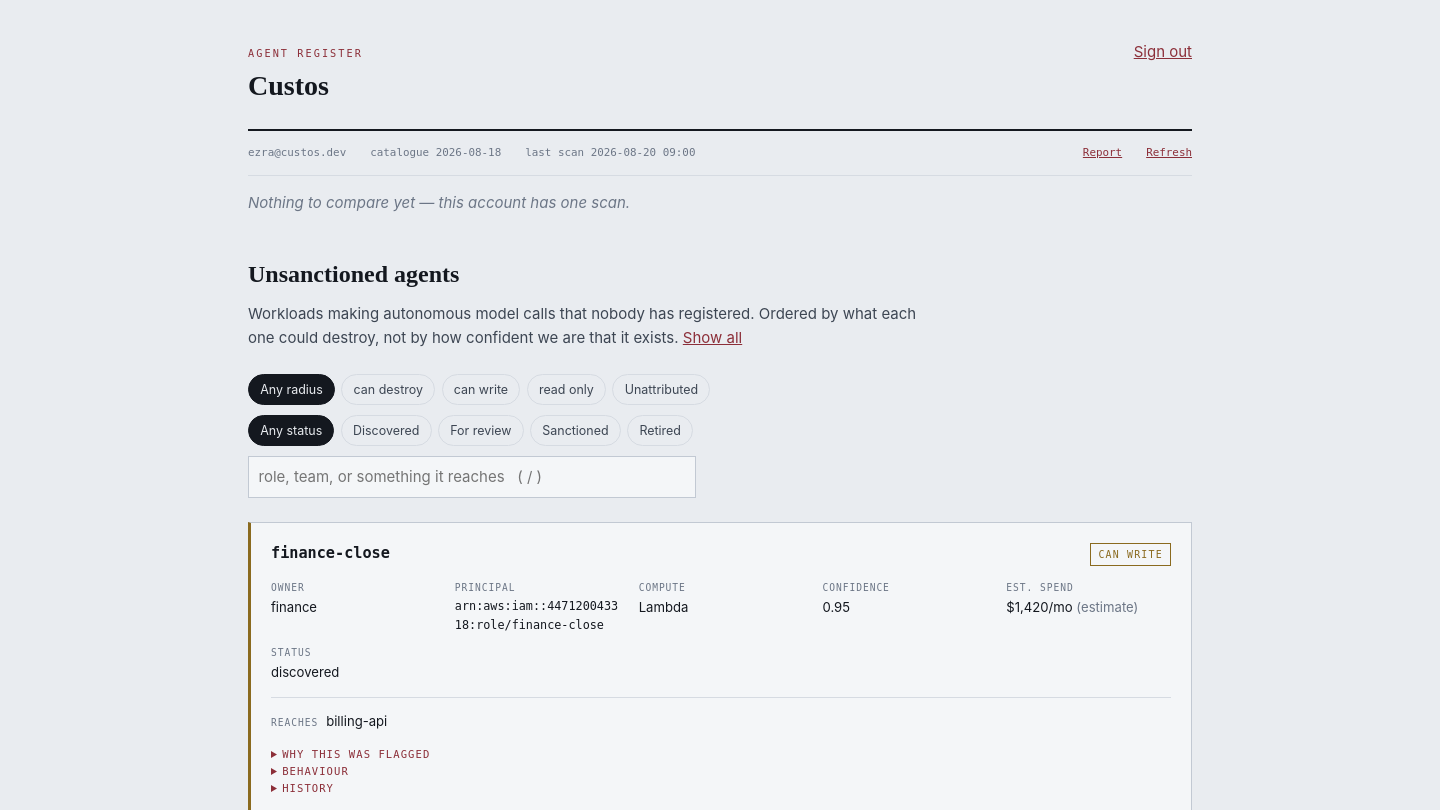
Scenario: granting › shows the server's refusal rather than closing silently
The width and height of the screenshot is (1440, 810).
Expected: the heading "finance-close" is shown, left=271, top=541, right=390, bottom=565
Click the heading "Why this was flagged" at (356, 754), box left=282, top=748, right=430, bottom=760
(page scrolled)
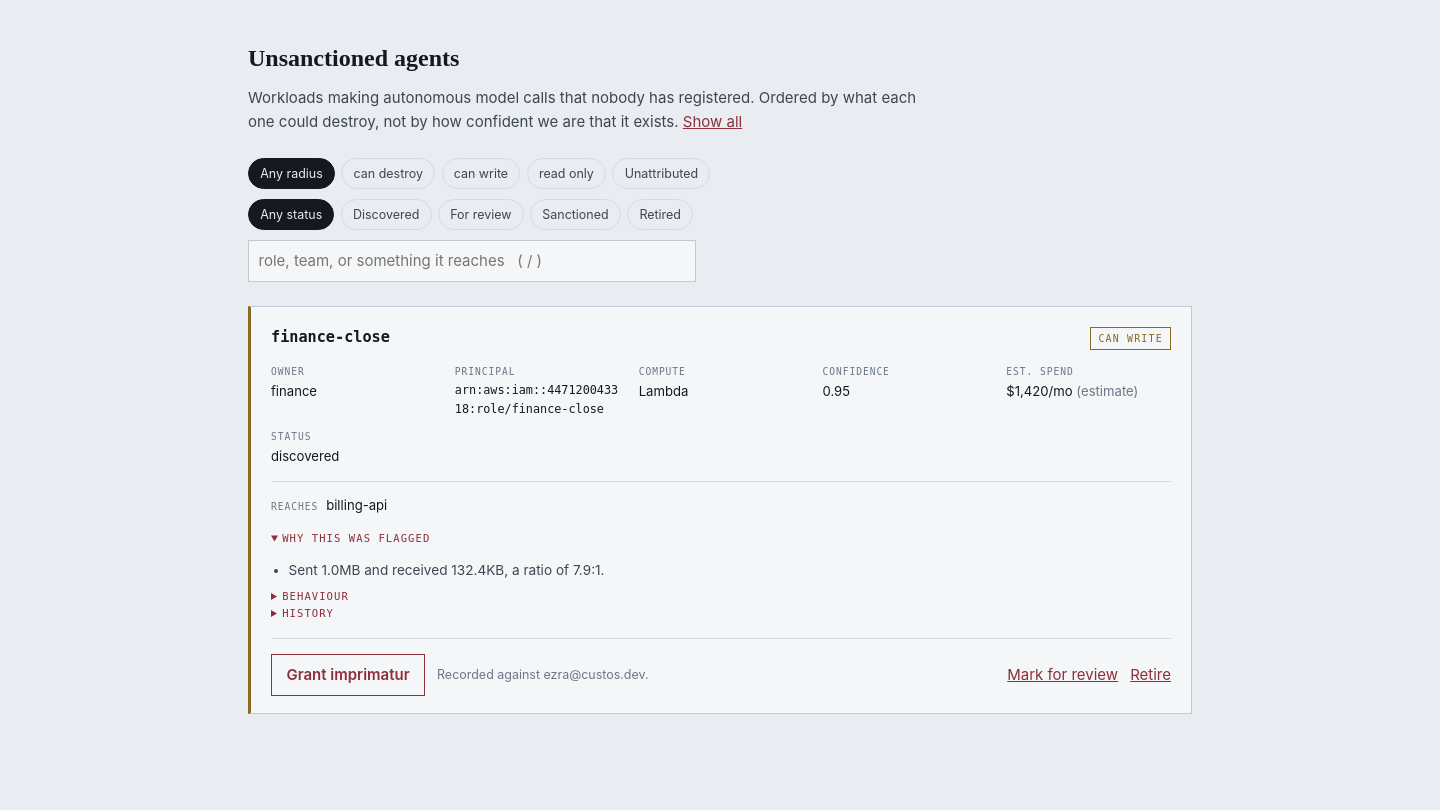
Click the button "Grant imprimatur" at (348, 675), box left=271, top=654, right=425, bottom=696
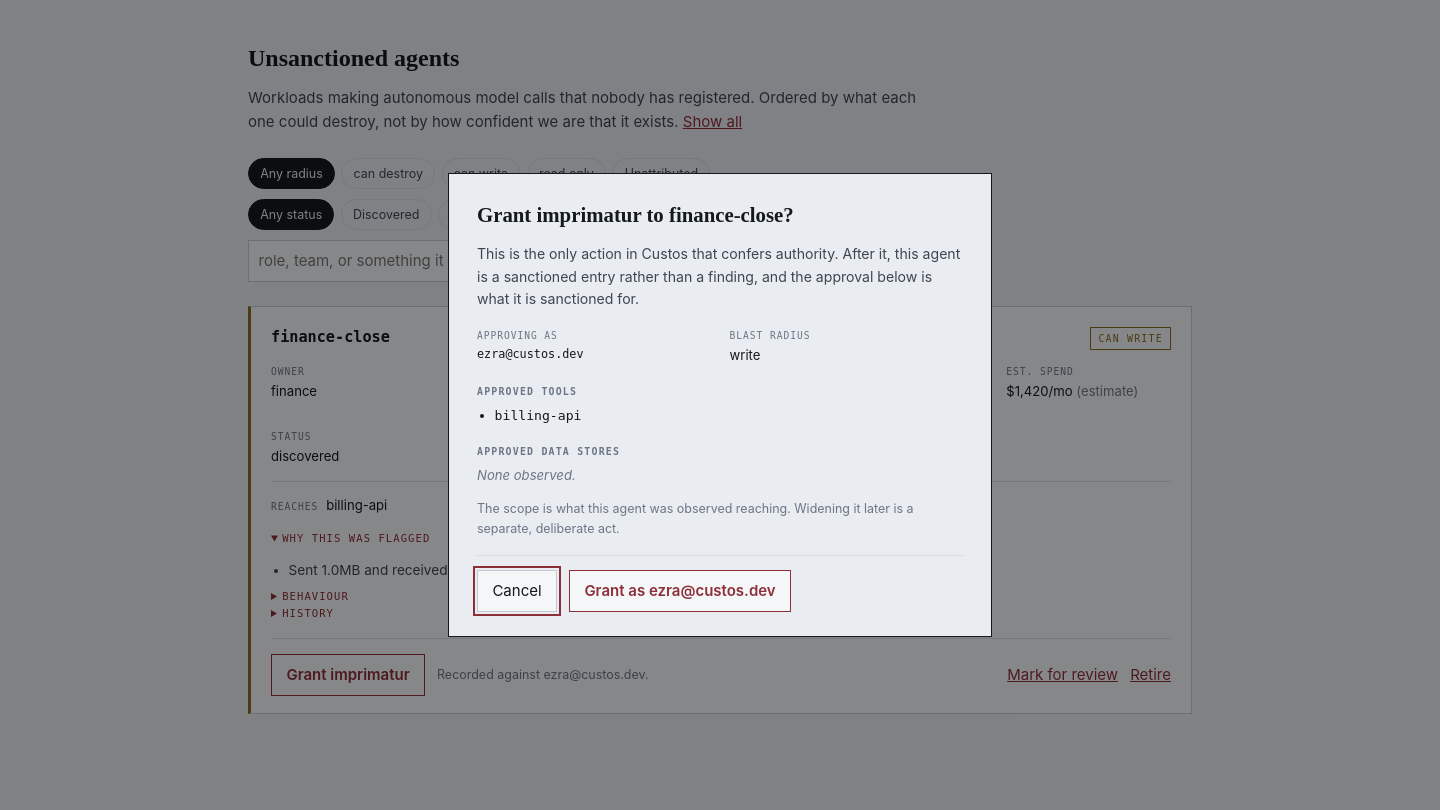
Click the button "Grant as ezra@custos.dev" at (680, 591), box left=569, top=570, right=791, bottom=612
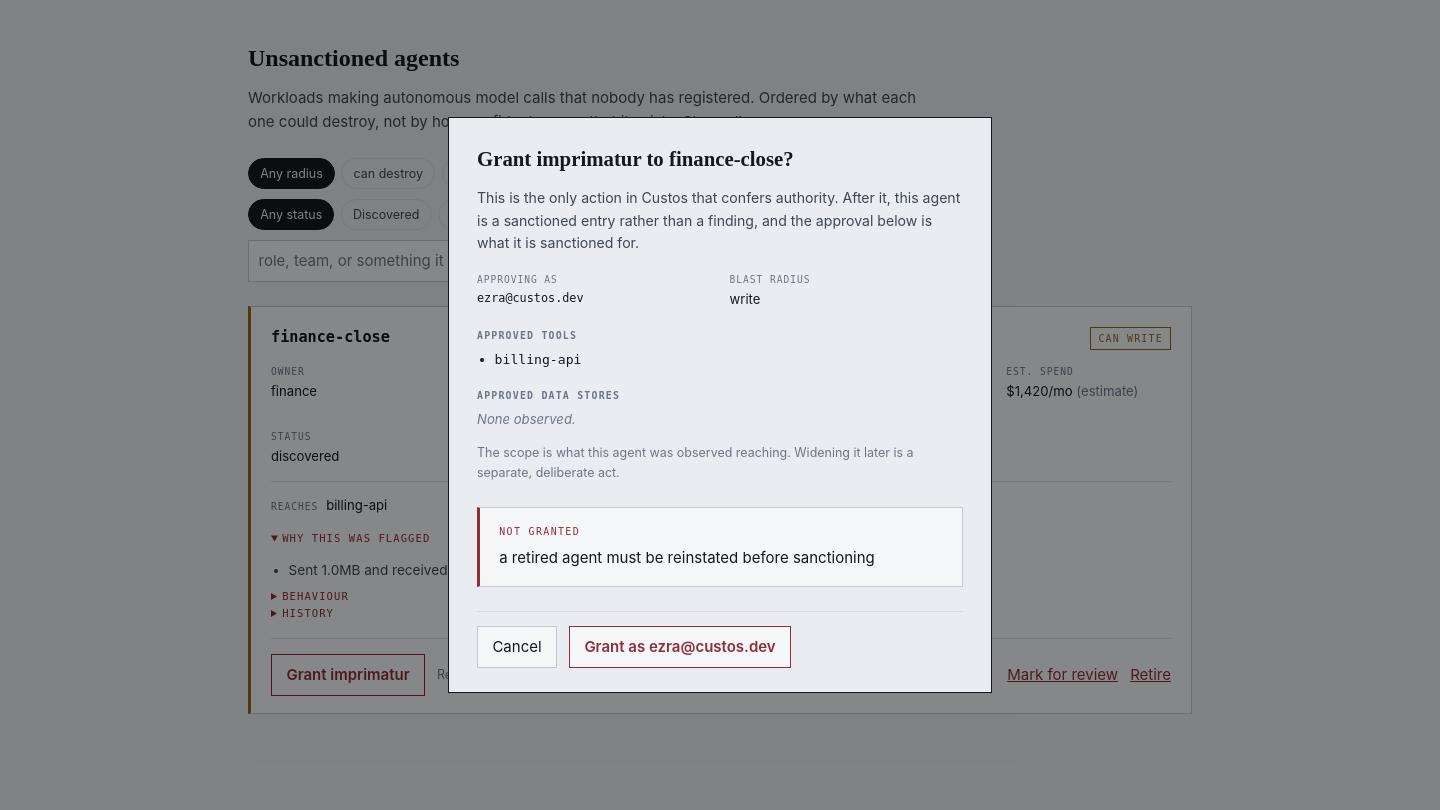
Result: the dialog is shown at left=448, top=117, right=992, bottom=693
Result: the text "a retired agent must be reinstated before sanctioning" is shown at left=499, top=548, right=875, bottom=567
